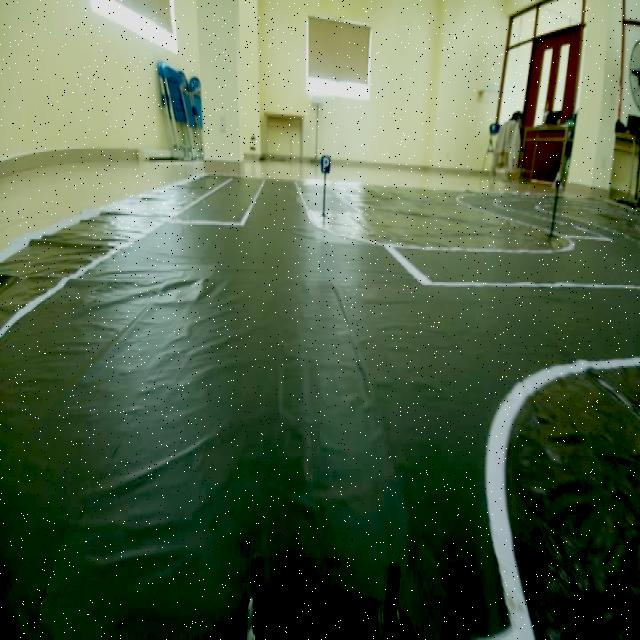parking: (318, 143, 334, 188)
